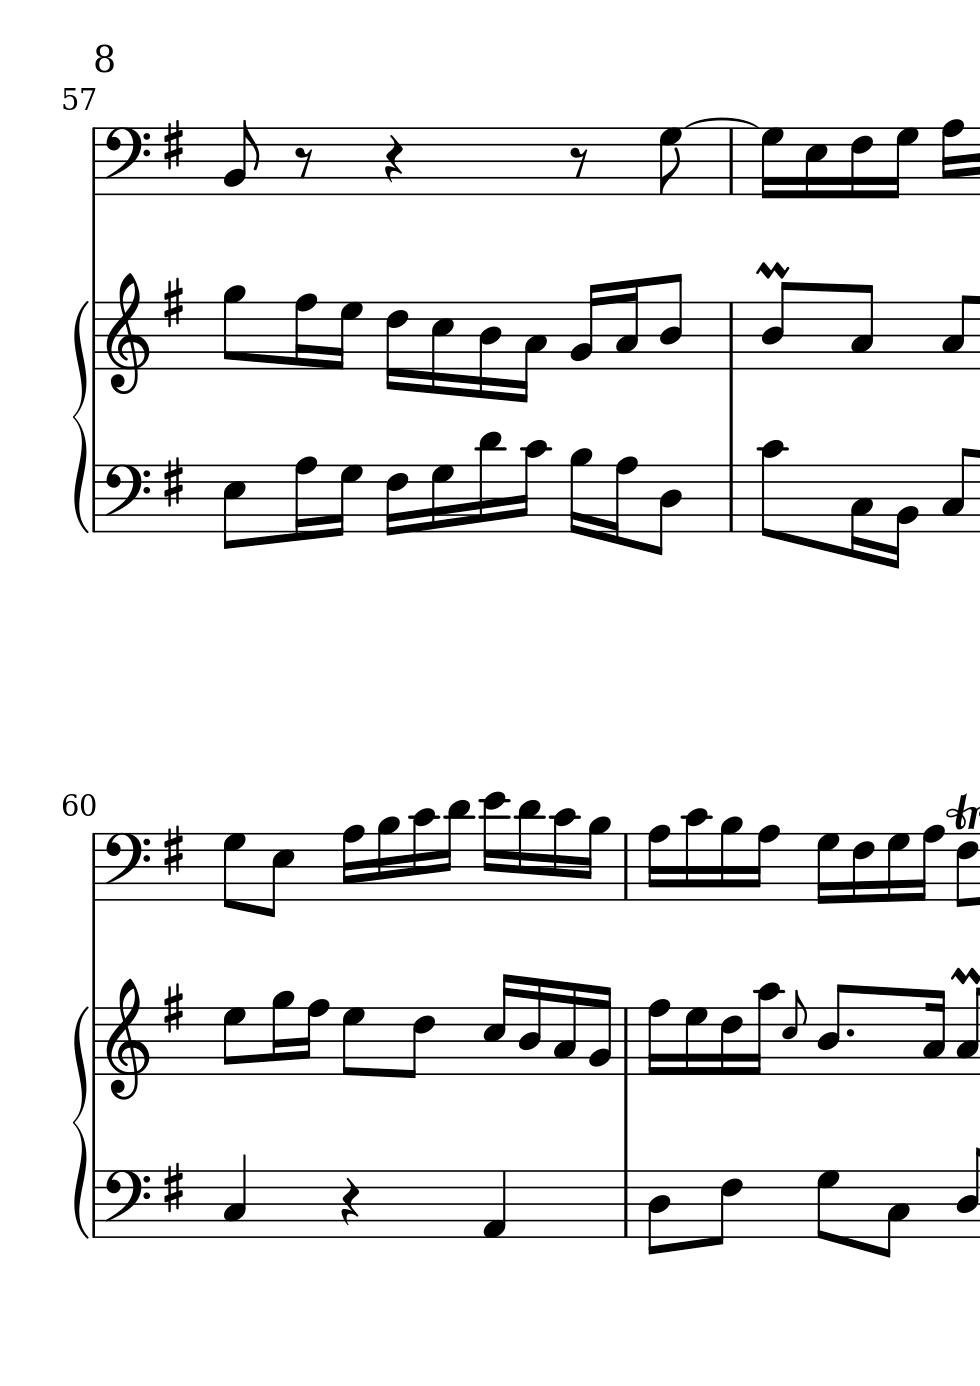0: (78, 791, 97, 819)
16_10: (746, 981, 781, 1078), (517, 438, 549, 536), (549, 806, 579, 902), (682, 807, 711, 903), (410, 807, 437, 902)
16_11: (439, 799, 472, 903), (474, 429, 503, 534), (514, 799, 541, 903)
16_12: (480, 790, 507, 902)
16_2: (886, 462, 918, 571), (568, 281, 601, 371), (587, 984, 612, 1077)
16_3: (515, 300, 547, 404), (552, 981, 577, 1076), (920, 988, 947, 1076), (848, 462, 873, 561), (613, 279, 638, 370), (953, 987, 979, 1077)
16_4: (476, 300, 502, 402), (518, 978, 543, 1077)
16_5: (482, 972, 514, 1076), (428, 299, 454, 396), (802, 126, 828, 201)
16_6: (383, 299, 409, 392), (383, 462, 409, 537), (848, 125, 873, 201), (850, 832, 875, 905), (718, 1006, 743, 1078)
16_7: (885, 125, 918, 201), (330, 462, 363, 539), (330, 300, 363, 373), (813, 831, 840, 907), (682, 1005, 708, 1078), (428, 461, 454, 536), (759, 125, 784, 201), (885, 831, 909, 905)
16_8: (606, 455, 638, 545), (748, 824, 780, 903), (913, 824, 945, 902), (299, 998, 329, 1076), (292, 454, 317, 543), (645, 823, 671, 903), (645, 997, 671, 1077), (292, 292, 317, 372), (939, 118, 964, 197), (339, 824, 365, 902)
16_9: (581, 815, 612, 903), (717, 815, 743, 903), (374, 815, 400, 902), (269, 990, 294, 1077), (568, 446, 592, 536)
4_1: (482, 1169, 508, 1241)
4_3: (221, 1152, 249, 1240)
5: (62, 85, 77, 113)
6: (62, 792, 78, 818)
7: (80, 86, 97, 115)
8: (93, 42, 115, 74)
8_10: (757, 438, 786, 543)
8_2: (223, 118, 259, 195)
8_3: (877, 1166, 910, 1258), (940, 445, 972, 536), (940, 292, 972, 371), (848, 283, 875, 372)
8_4: (817, 983, 851, 1077), (650, 463, 683, 557), (760, 282, 793, 371), (659, 271, 684, 372), (953, 1146, 979, 1241), (645, 1169, 672, 1256)
8_5: (263, 831, 295, 919), (220, 462, 246, 551)
8_6: (706, 1168, 742, 1247), (400, 1005, 435, 1080), (953, 834, 978, 909)
8_7: (220, 831, 246, 911), (813, 1168, 840, 1243), (657, 126, 683, 196), (340, 1005, 365, 1078), (221, 1006, 246, 1076)
8_9: (221, 284, 246, 370)
Appoggiature: (778, 987, 807, 1080)
Brace: (71, 298, 90, 538), (73, 1004, 91, 1242)
Fclef: (98, 830, 151, 900), (100, 124, 151, 196), (101, 1166, 152, 1238), (101, 462, 150, 534)
Gclef: (103, 977, 150, 1100), (104, 271, 150, 394)
Mordent: (948, 965, 980, 986)
Rests4: (382, 133, 405, 185), (339, 1176, 361, 1227)
Rests8: (292, 145, 314, 179), (568, 145, 589, 179)
Sharp: (158, 823, 188, 879), (160, 117, 186, 173), (160, 455, 186, 509), (161, 1160, 185, 1215), (161, 980, 185, 1034), (161, 276, 183, 330)
ShortTrill: (753, 259, 791, 281)
Single_barline: (722, 129, 741, 194), (722, 303, 740, 369), (618, 1008, 635, 1077), (617, 1170, 634, 1238), (617, 834, 634, 900), (723, 464, 739, 532), (86, 834, 101, 901), (86, 128, 100, 195), (88, 302, 101, 370), (89, 464, 102, 532), (88, 1008, 101, 1076), (89, 1171, 101, 1236)
dot: (842, 1027, 856, 1040)
